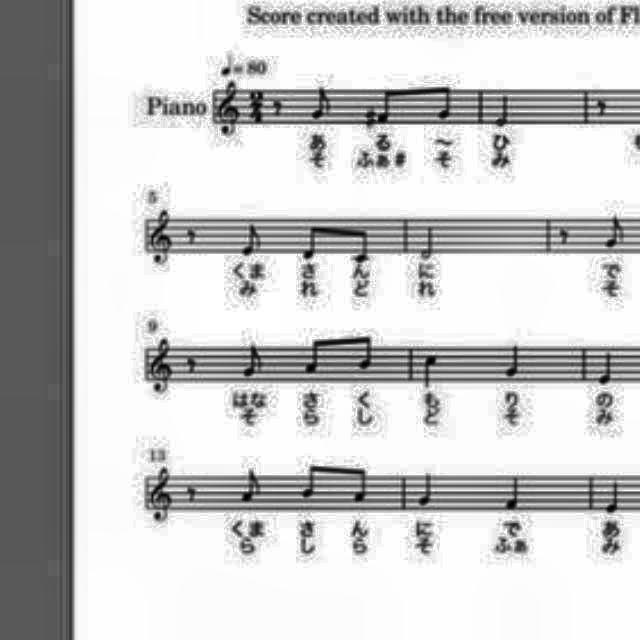Eighth-note: (344, 331, 380, 373), (306, 80, 338, 124), (298, 334, 326, 382), (238, 218, 266, 262), (240, 337, 268, 381), (235, 464, 263, 508), (432, 77, 456, 127), (352, 220, 376, 270), (298, 215, 324, 261), (602, 210, 630, 252), (372, 85, 396, 132), (298, 462, 322, 502), (346, 466, 370, 506)
Eighth-rest: (552, 225, 576, 251), (591, 96, 613, 120), (182, 353, 202, 375), (183, 482, 200, 506), (185, 226, 199, 250), (272, 99, 288, 119)
Half-note: (492, 92, 516, 128), (420, 220, 440, 260)
Quarter-note: (414, 468, 442, 516), (592, 348, 620, 392), (598, 473, 626, 517), (502, 468, 526, 518), (504, 338, 528, 382), (420, 351, 440, 389)
Treble-clef: (147, 206, 180, 274), (214, 75, 246, 143), (148, 336, 180, 398), (145, 466, 179, 524)
